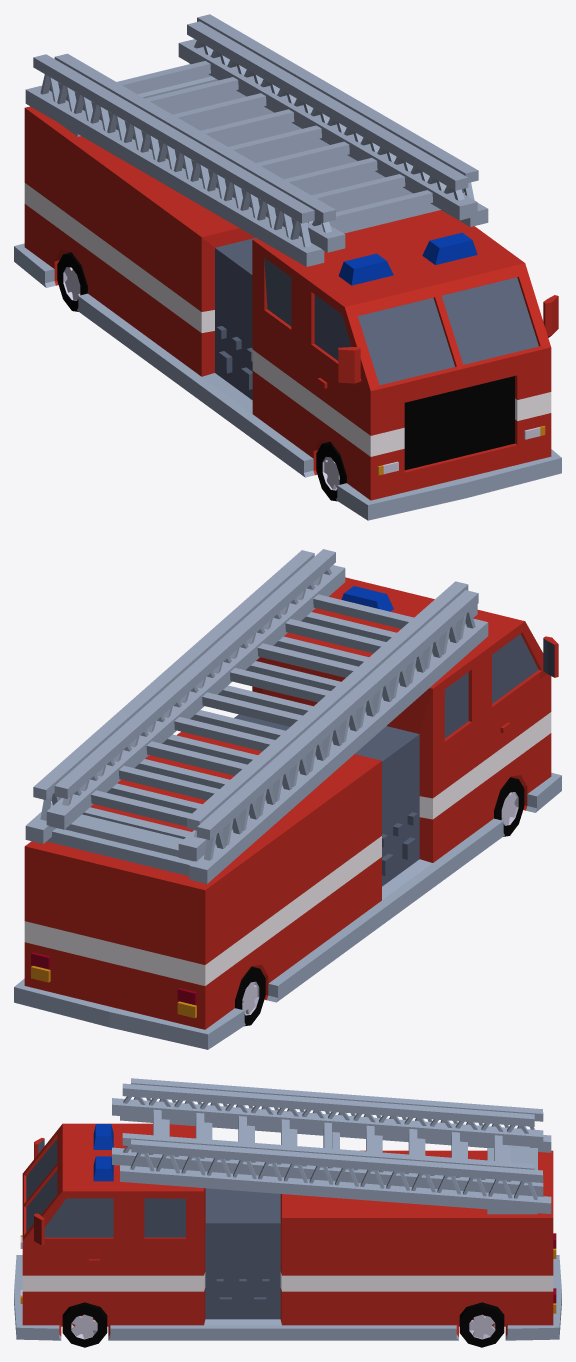
Rendered from Firetruck.glb.
3 views of the same model, one above another, from view 1: azimuth 30°, elevation 25°; view 2: azimuth 150°, elevation 25°; view 3: azimuth 270°, elevation 25° (orthographic). The views are drawn at different scales.
Visible parts, largest first — view 1: Firetruck_body grey_0, Firetruck_body red_0, Firetruck_windows_0, Firetruck_body white_0, Firetruck_body black_0, Firetruck_body dark grey_0, Firetruck_flashers siren blue_0, Firetruck wheel front right_tires_0, Firetruck wheel rear right_tires_0; view 2: Firetruck_body grey_0, Firetruck_body red_0, Firetruck_body white_0, Firetruck_body dark grey_0, Firetruck_windows_0, Firetruck wheel rear right_tires_0, Firetruck wheel front right_tires_0, Firetruck_flashers siren blue_0; view 3: Firetruck_body red_0, Firetruck_body grey_0, Firetruck_body dark grey_0, Firetruck_body white_0, Firetruck_windows_0, Firetruck wheel rear left_tires_0, Firetruck wheel front left_tires_0, Firetruck_flashers siren blue_0, Firetruck wheel rear left_wheels_0, Firetruck wheel front left_wheels_0.
Part boxes in pixels (bbox=[...]): Firetruck_body grey_0: bbox=[14, 14, 561, 520]; Firetruck_body red_0: bbox=[24, 106, 558, 500]; Firetruck_windows_0: bbox=[264, 258, 538, 385]; Firetruck_body white_0: bbox=[24, 183, 551, 456]; Firetruck_body black_0: bbox=[404, 376, 514, 470]; Firetruck_body dark grey_0: bbox=[215, 238, 256, 399]; Firetruck_flashers siren blue_0: bbox=[338, 232, 477, 285]; Firetruck wheel front right_tires_0: bbox=[316, 441, 346, 501]; Firetruck wheel rear right_tires_0: bbox=[57, 252, 87, 311]; Firetruck_body grey_0: bbox=[14, 549, 561, 1049]; Firetruck_body red_0: bbox=[24, 577, 558, 1029]; Firetruck_body white_0: bbox=[24, 712, 551, 985]; Firetruck_body dark grey_0: bbox=[234, 714, 419, 886]; Firetruck_windows_0: bbox=[444, 634, 554, 738]; Firetruck wheel rear right_tires_0: bbox=[235, 966, 265, 1026]; Firetruck wheel front right_tires_0: bbox=[494, 777, 524, 836]; Firetruck_flashers siren blue_0: bbox=[341, 586, 473, 618]; Firetruck_body red_0: bbox=[22, 1123, 553, 1336]; Firetruck_body grey_0: bbox=[14, 1078, 561, 1340]; Firetruck_body dark grey_0: bbox=[205, 1188, 280, 1319]; Firetruck_body white_0: bbox=[22, 1272, 553, 1291]; Firetruck_windows_0: bbox=[26, 1139, 185, 1237]; Firetruck wheel rear left_tires_0: bbox=[459, 1302, 504, 1347]; Firetruck wheel front left_tires_0: bbox=[62, 1302, 107, 1347]; Firetruck_flashers siren blue_0: bbox=[93, 1124, 113, 1181]; Firetruck wheel rear left_wheels_0: bbox=[469, 1314, 495, 1339]; Firetruck wheel front left_wheels_0: bbox=[71, 1314, 97, 1339].
Size of the model in its own units: 3.41 by 3.93 by 9.6.
